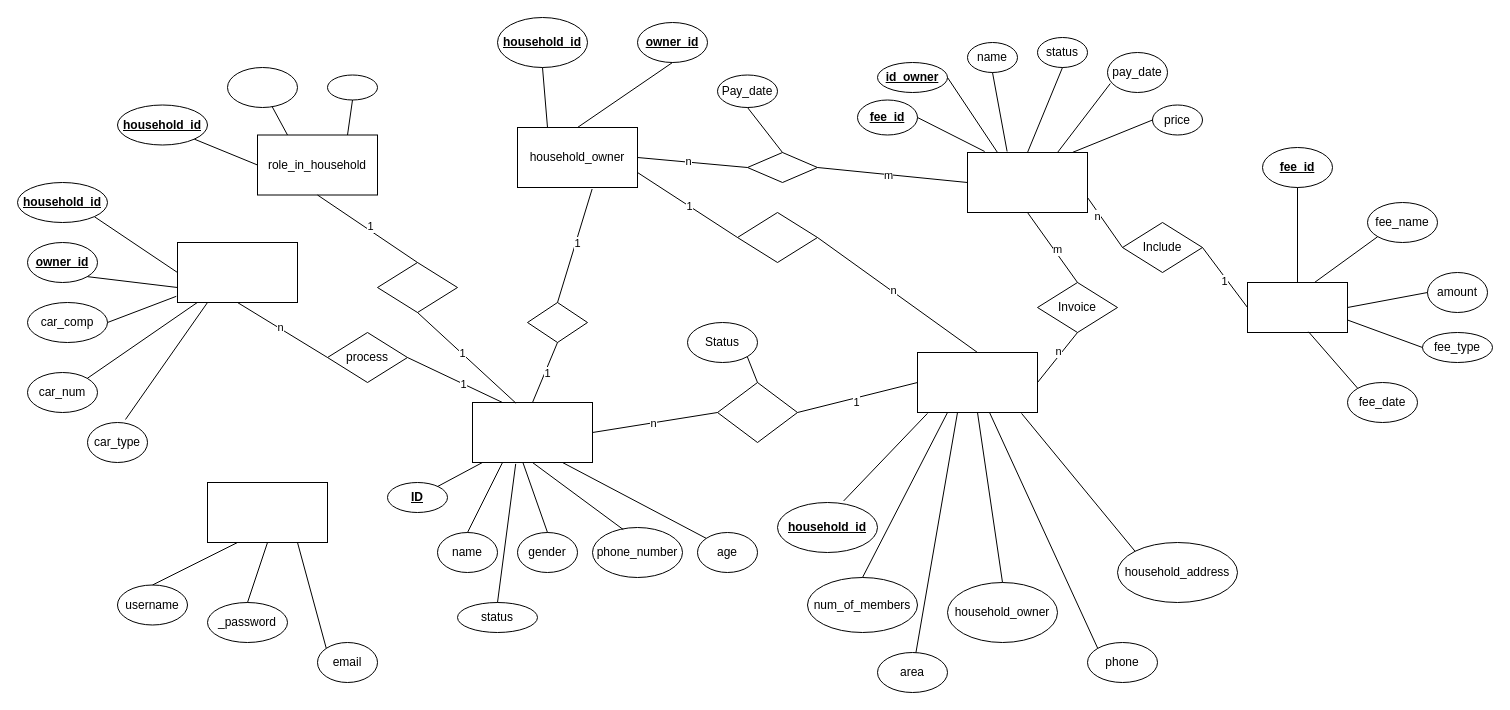
This 1510x710 diagram has some shape labels left out. The shapes that lost their labels are listed below. From the top down, each one's centre as x and y in pixels, then its label:
[262,87]: member_id
[352,87]: _role
[782,167]: Paid
[1027,182]: Fee_payment
[777,237]: Own
[237,272]: Car
[417,287]: Relate
[557,322]: Is
[1297,307]: Fee
[977,382]: Household
[532,432]: Resident
[757,412]: Staying
[267,512]: Account
